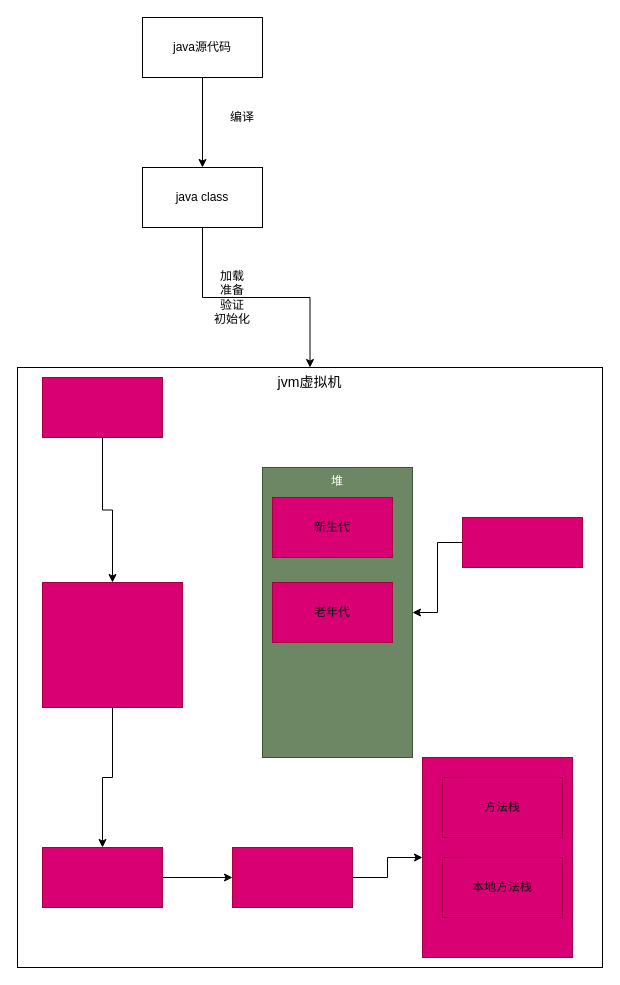
The diagram is 620 pixels wide and 985 high, and some of its shapes have lost their labels. Here are the shapes that lost their labels. From the top down, the centre of each, then its label:
the point at 102,407: 字节码解释引擎
the point at 522,542: 垃圾回收线程
the point at 112,645: 元数据区（方法区）
the point at 102,877: 程序计数器
the point at 292,877: 线程
